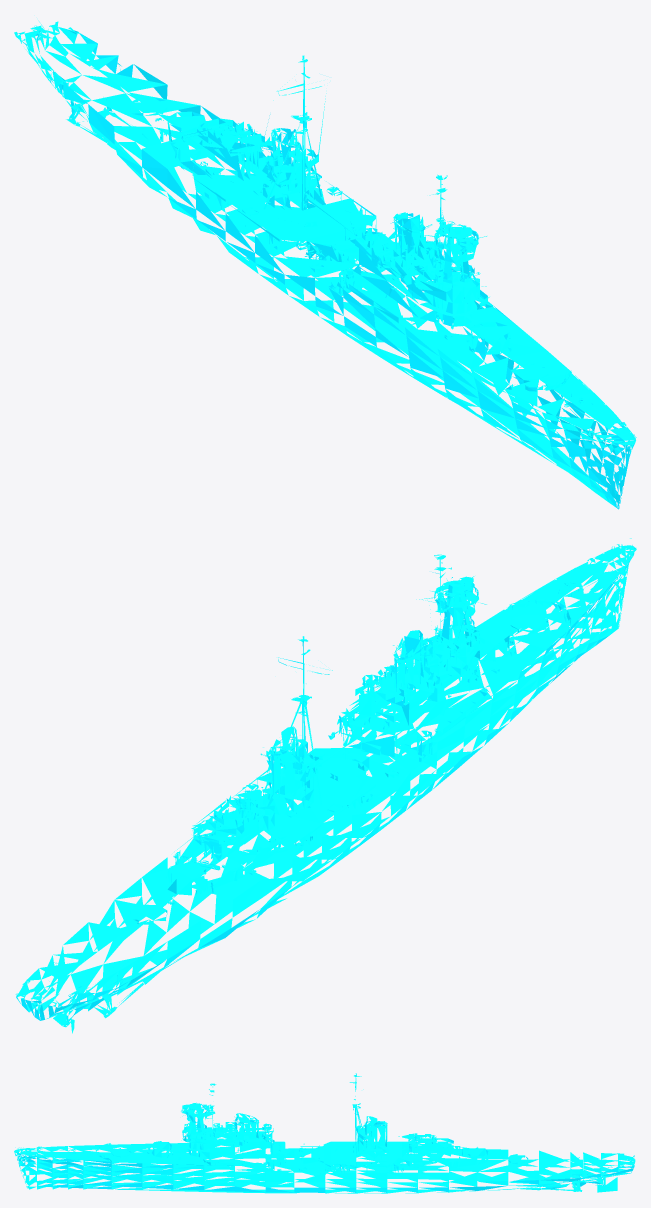
The model's file is Pr_Chapaev.glb.
3 views of the same model, one above another, from view 1: azimuth 30°, elevation 25°; view 2: azimuth 150°, elevation 25°; view 3: azimuth 270°, elevation 25° (orthographic). The views are drawn at different scales.
Size of the model in its own units: 1.25 by 2.8 by 13.29.
